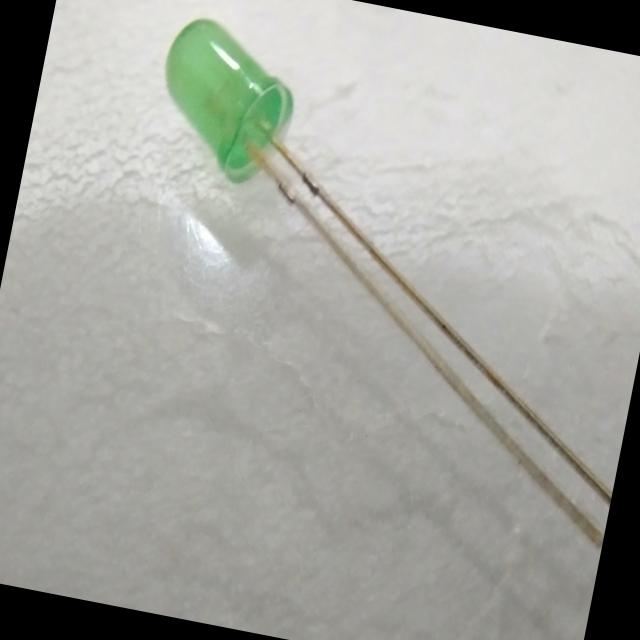green_led: (137, 6, 316, 204)
